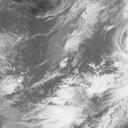cyclone: (46, 37, 85, 85)
